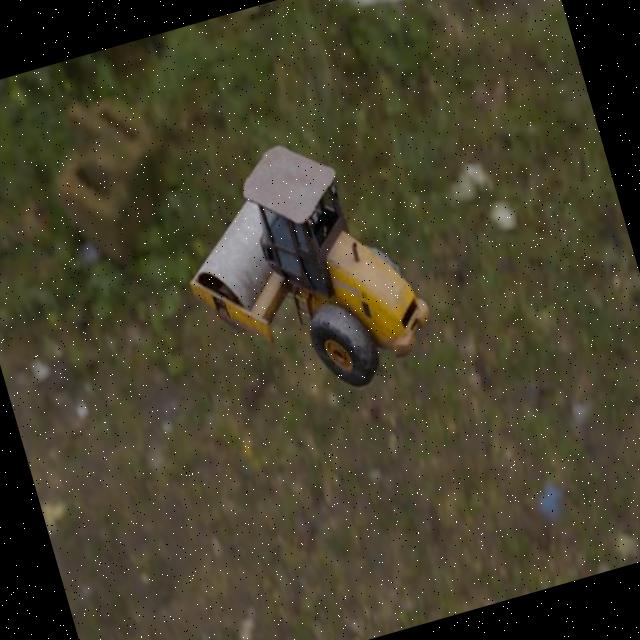Roller: (158, 116, 444, 424)
